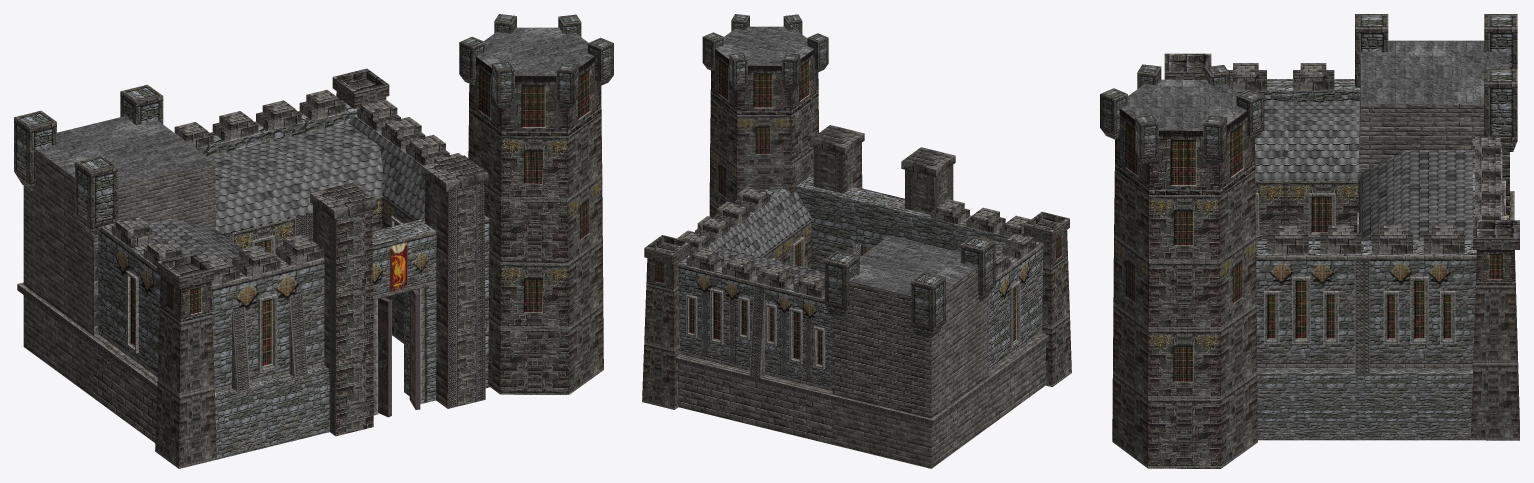
Rendered from rd_house_m.glb.
3 renders of one model, left to right at view 1: azimuth 30°, elevation 25°; view 2: azimuth 150°, elevation 25°; view 3: azimuth 270°, elevation 25°, orthographic. The views are drawn at different scales.
Visible parts, largest first — view 1: rd_house_m; view 2: rd_house_m; view 3: rd_house_m.
Boxes of the visible parts, x1,y1,x2,y2 form: rd_house_m: [14, 14, 613, 468]; rd_house_m: [642, 14, 1071, 468]; rd_house_m: [1100, 14, 1519, 468].
Bounding box in the file's own units: 16.56 × 12.27 × 13.35.
Materials: 15 (15 with a texture image).
